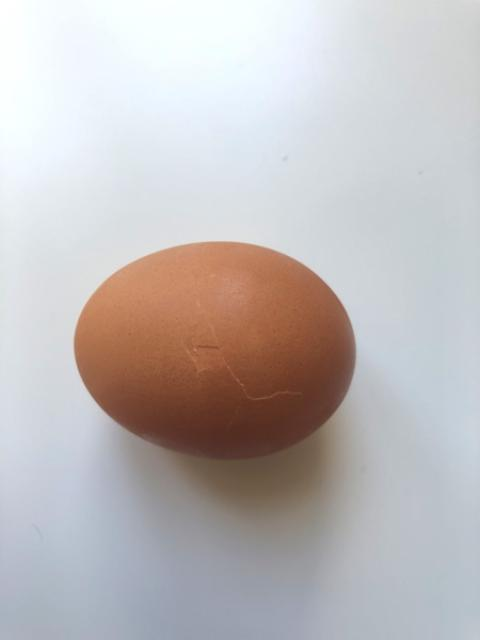Roto: (73, 239, 356, 460)
